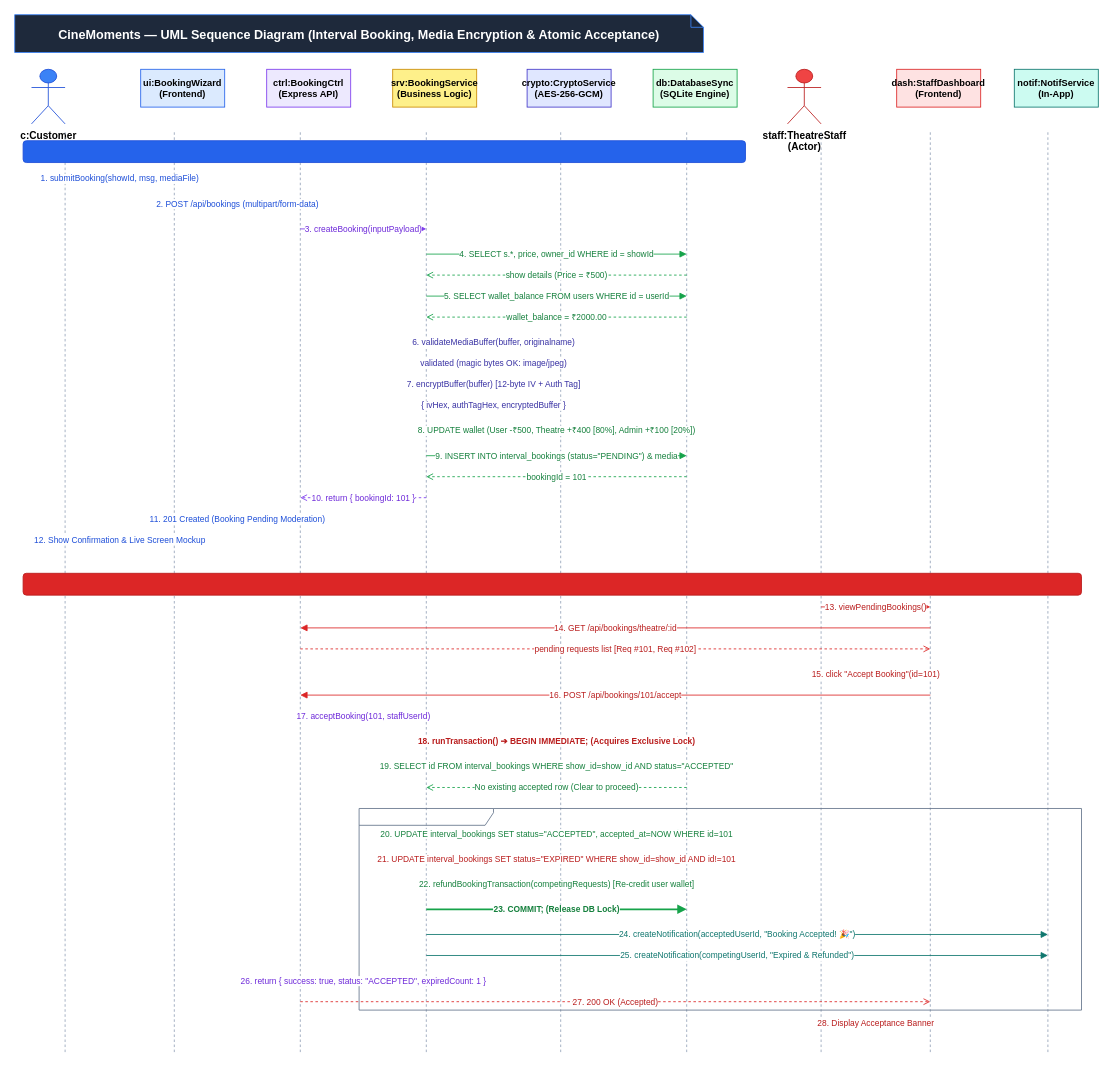
Image size: 1113x1068. Some labels were removed from this diagram. Each missing label, with the centre of its shape:
"alt [Concurrency Conflict Check]" goes at point (720, 909).
"PHASE 1: INTERVAL BOOKING SUBMISSION & AES-256-GCM ENCRYPTED STORAGE" goes at point (384, 151).
"PHASE 2: STAFF MODERATION, ATOMIC CONCURRENCY LOCK & COMPETING EXSPIRATION" goes at point (552, 583).
